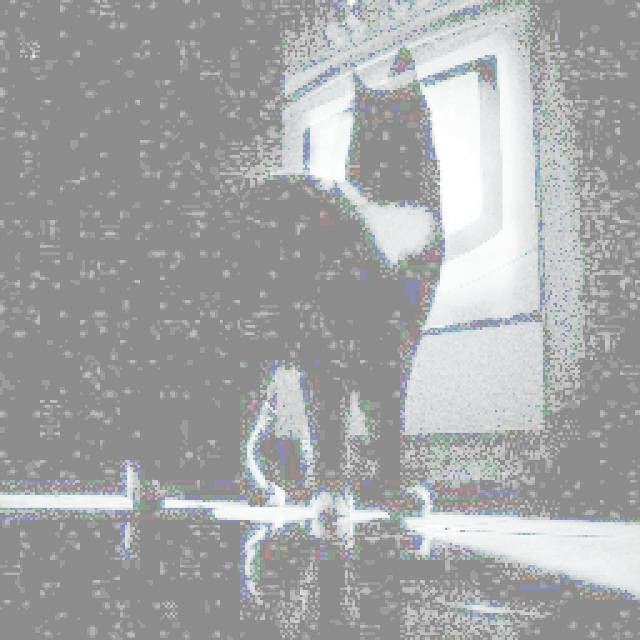cat: (106, 51, 462, 560)
